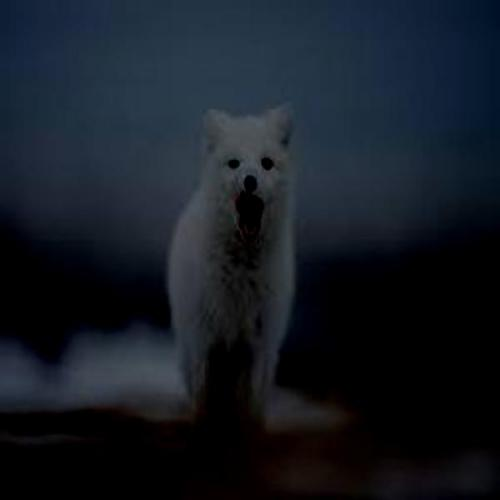arctic_fox-endangered: (170, 109, 294, 410)
